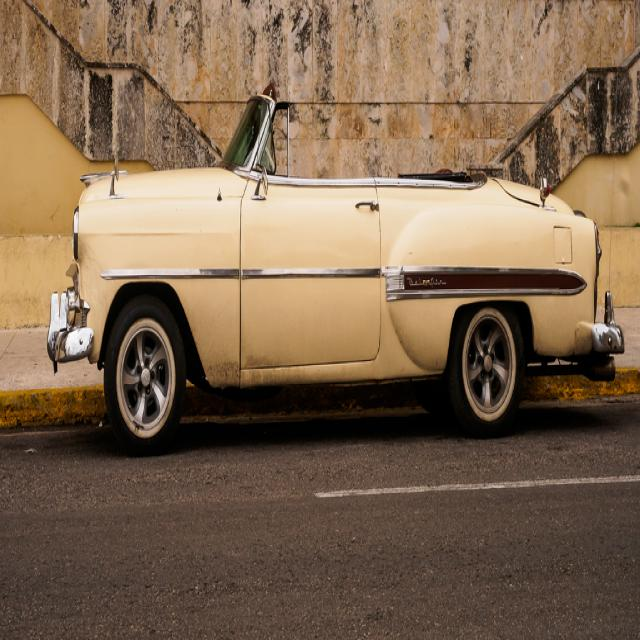car: (48, 91, 624, 451)
